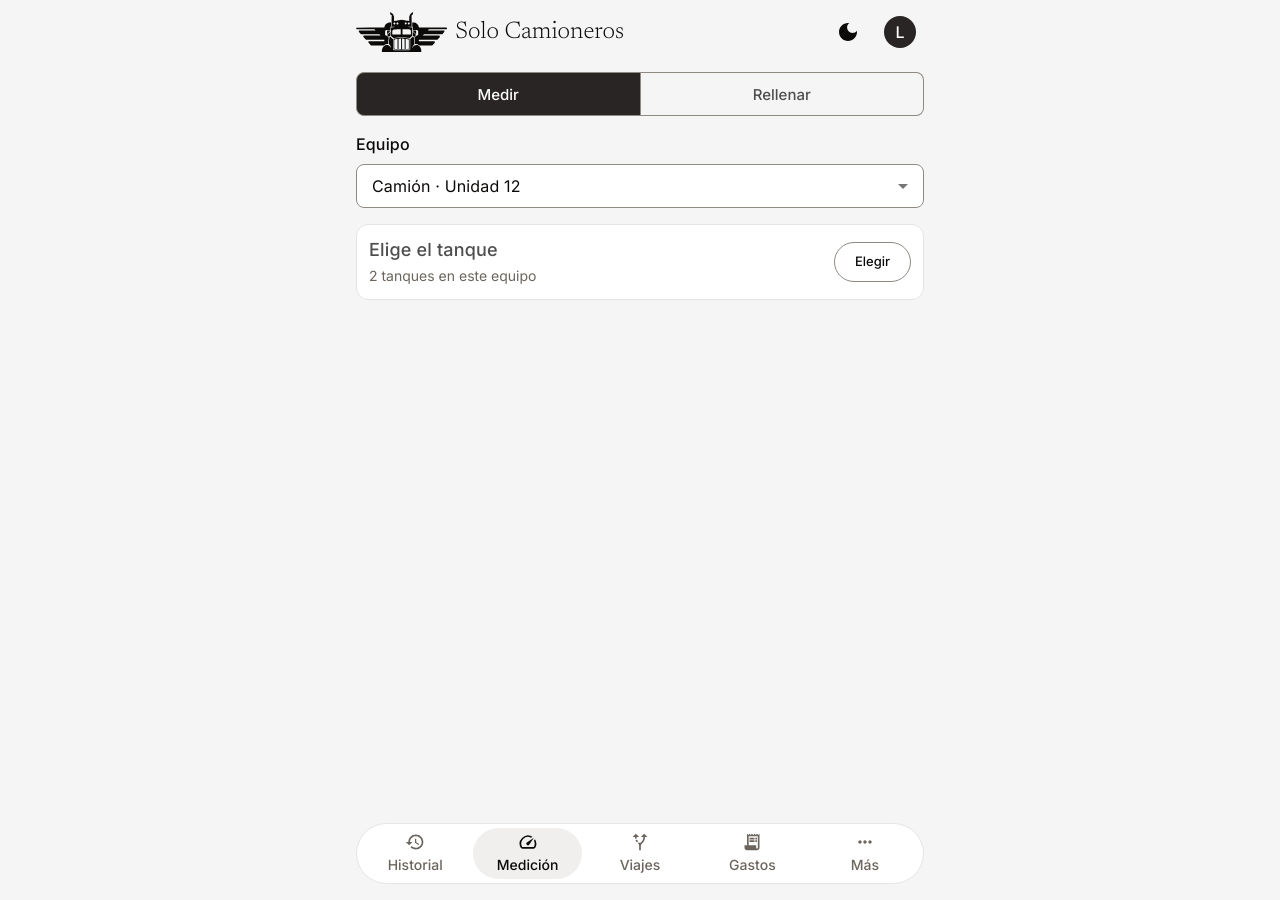
Test: a truck with two tanks asks for the truck, then the tank (CA-1)
This screenshot has width=1280, height=900.
Press the mouse on the dropdown labelled "Equipo" at {"x": 612, "y": 186}, box left=356, top=164, right=868, bottom=208
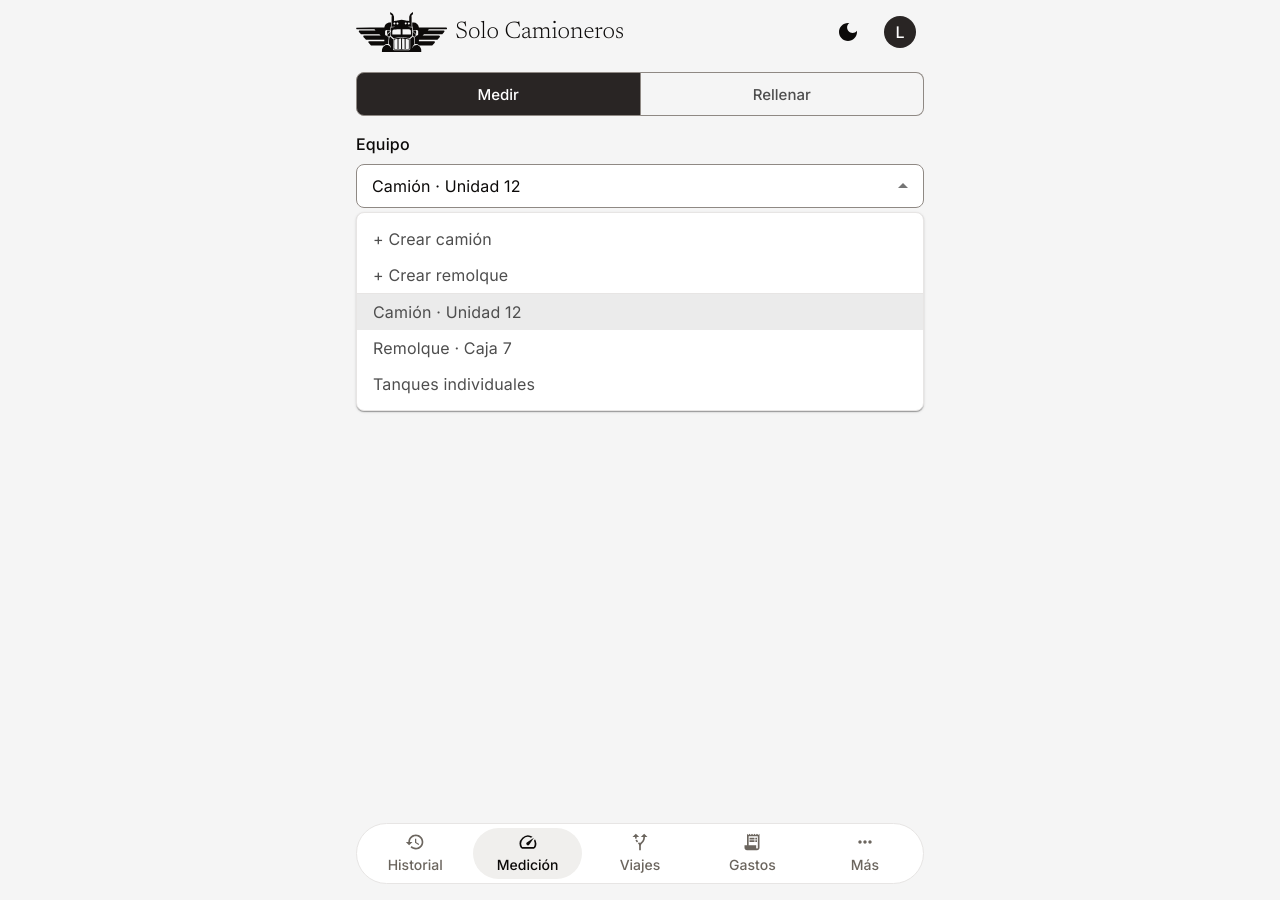
Expected: the options read "+ Crear camión", "+ Crear remolque", "Camión · Unidad 12", "Remolque · Caja 7", "Tanques individuales", in this order, left=373, top=229, right=492, bottom=249; left=357, top=257, right=923, bottom=294; left=357, top=294, right=923, bottom=330; left=373, top=338, right=512, bottom=358; left=373, top=374, right=535, bottom=394
Press Escape in the dropdown labelled "Equipo", box left=356, top=164, right=868, bottom=208
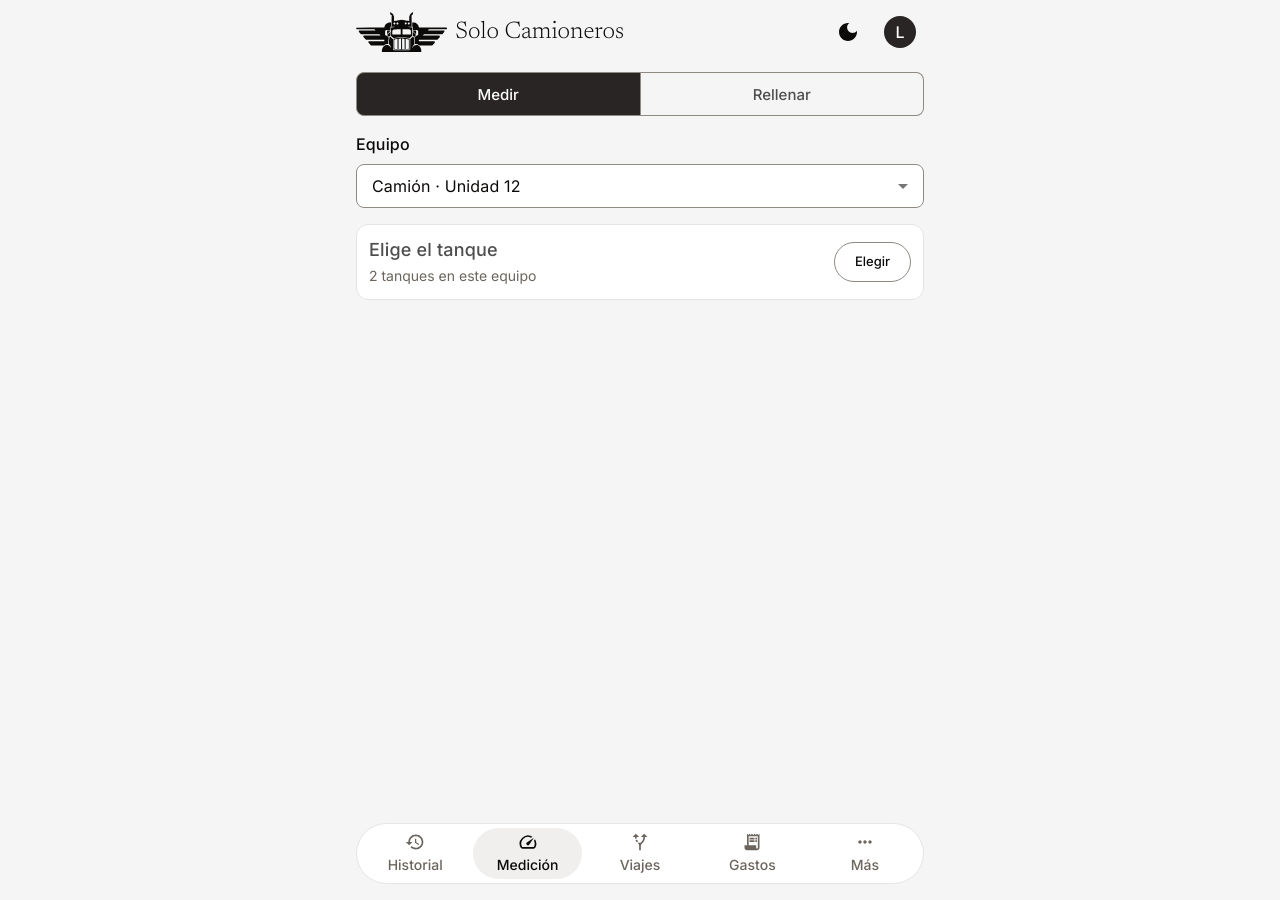
Expected: the text "Elige el tanque" is shown, left=369, top=239, right=498, bottom=260
Expected: the field labelled "Pulgadas de combustible" is not shown
Click the button "Elegir".
click(872, 262)  # box left=834, top=242, right=911, bottom=282
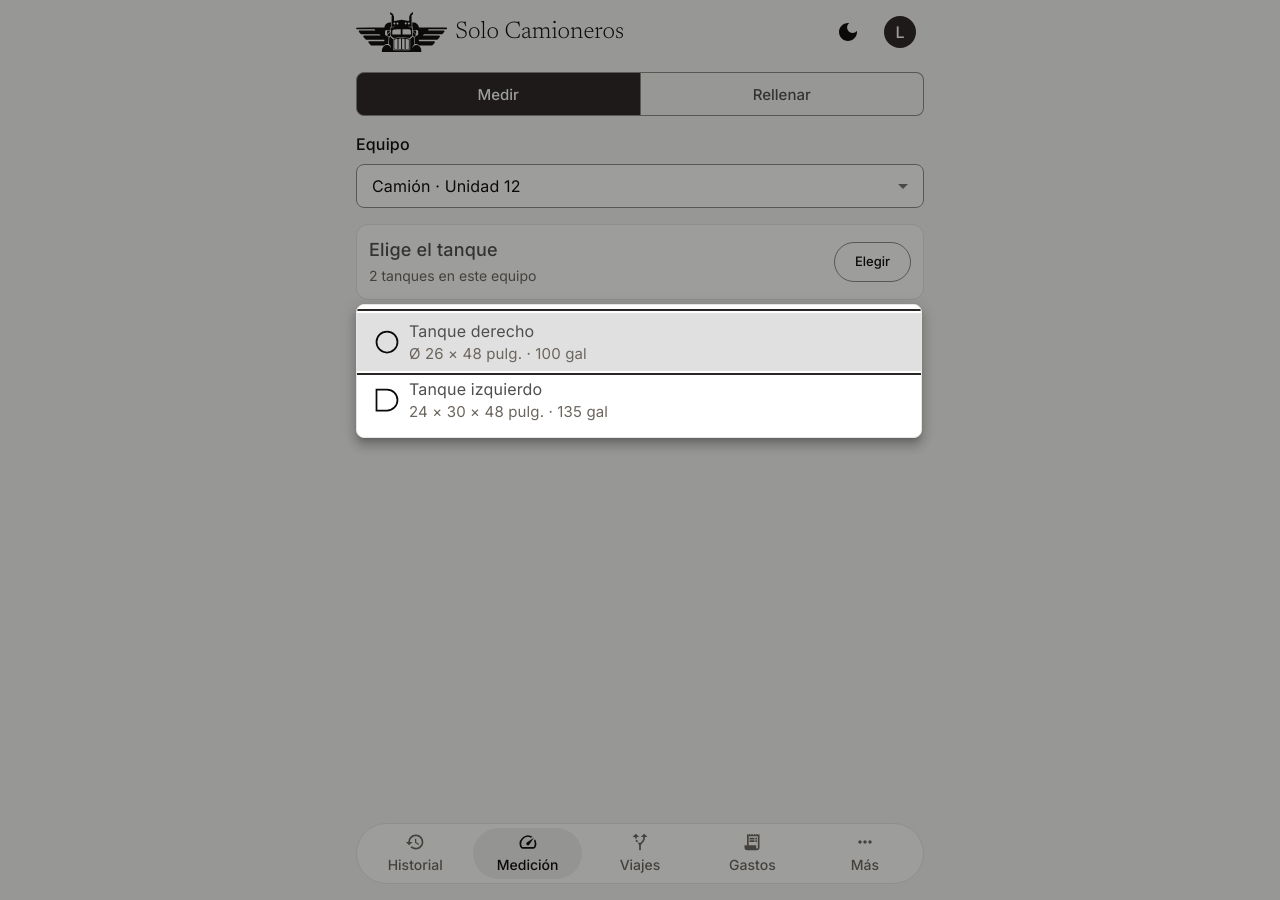
Click the menu item "Tanque izquierdo 24 × 30 × 48 pulg. · 135 gal".
click(491, 400)  # box left=373, top=379, right=608, bottom=421
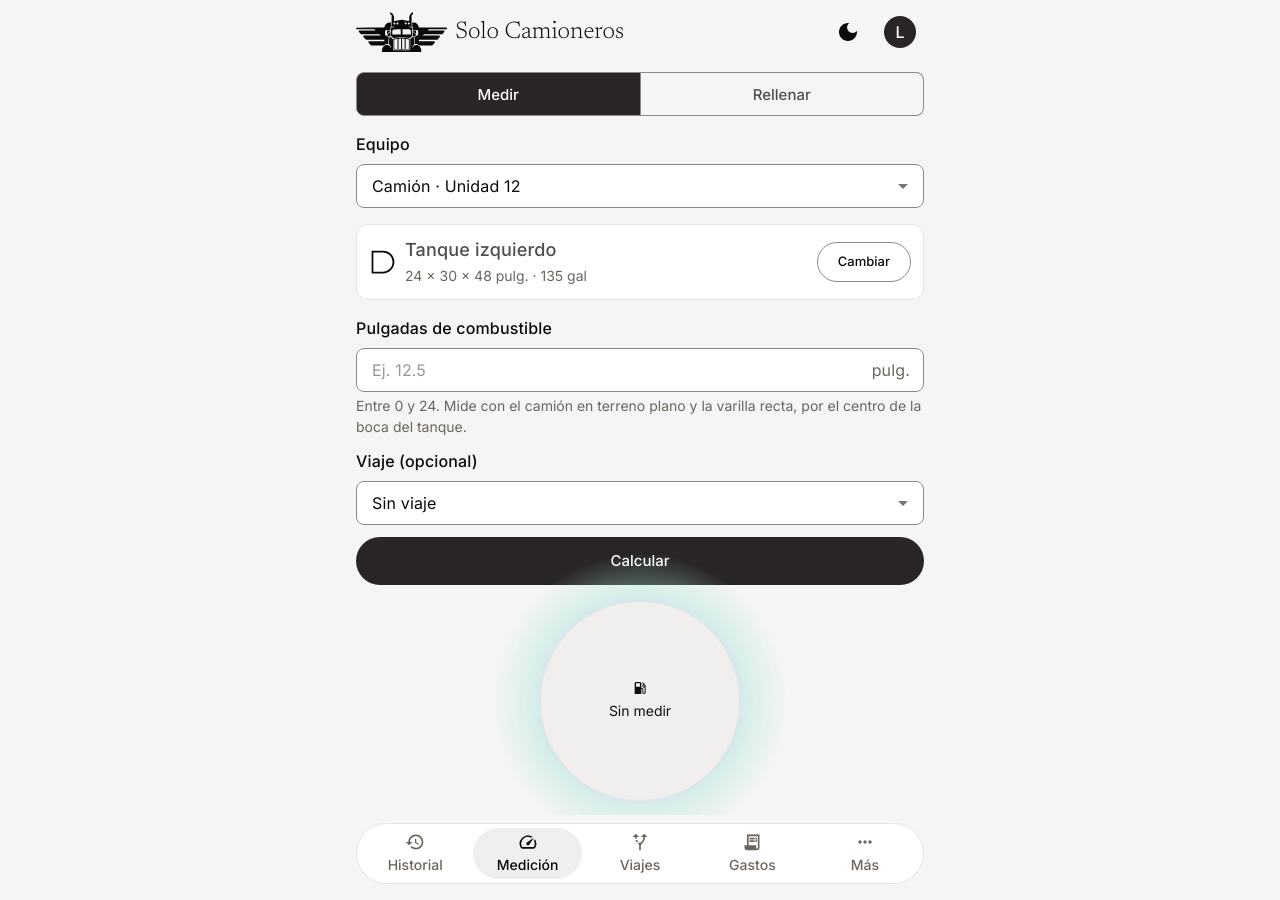
Expected: the field labelled "Pulgadas de combustible" is shown, left=356, top=348, right=864, bottom=392
